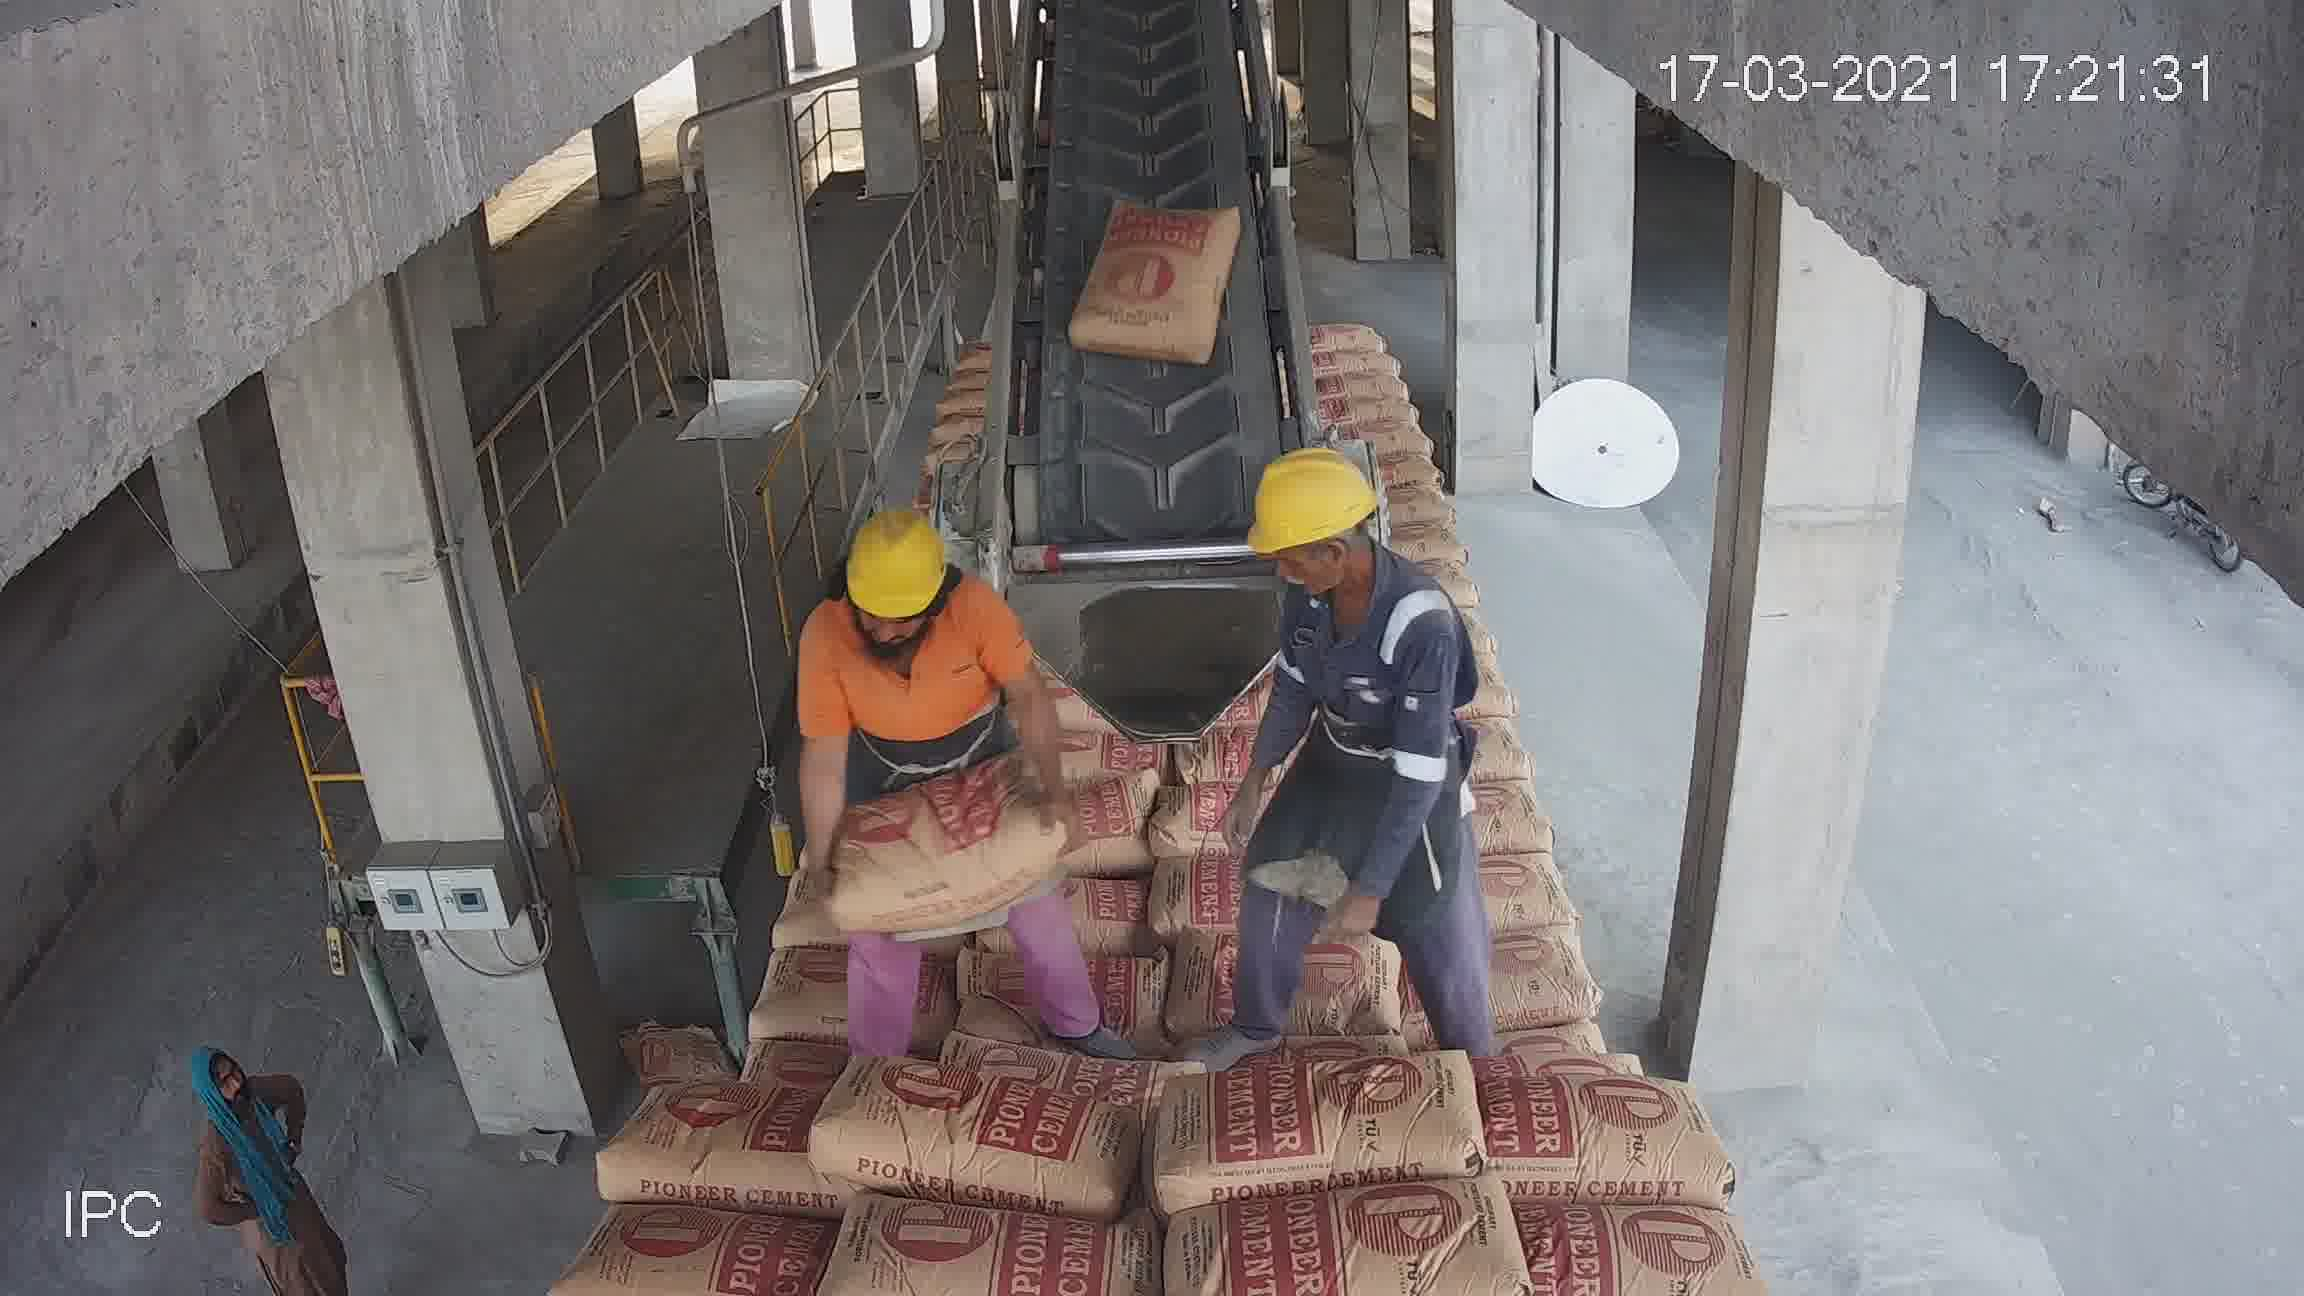bag_h: (1157, 1144, 1559, 1296), (1133, 1040, 1503, 1203), (820, 1065, 1166, 1223), (1143, 926, 1470, 1086), (1124, 709, 1407, 858), (873, 961, 1180, 1081), (1426, 1070, 1723, 1192), (790, 1198, 1176, 1290), (1136, 824, 1427, 945), (1445, 926, 1666, 1079), (864, 859, 1157, 964), (639, 962, 858, 1092), (582, 1090, 805, 1214), (1400, 843, 1643, 956), (900, 748, 1157, 850), (1396, 741, 1598, 859), (1476, 1207, 1756, 1291), (684, 864, 894, 957), (548, 1215, 826, 1285), (706, 775, 897, 867), (1029, 658, 1192, 729), (1396, 707, 1537, 779), (1027, 612, 1166, 676), (900, 498, 1048, 554), (1400, 639, 1502, 718), (900, 460, 1025, 517), (1005, 578, 1166, 619), (1192, 513, 1309, 568), (913, 549, 1046, 593), (1021, 734, 1188, 769), (1173, 612, 1252, 684), (1176, 565, 1287, 616)
belt: (1021, 0, 1294, 492)
